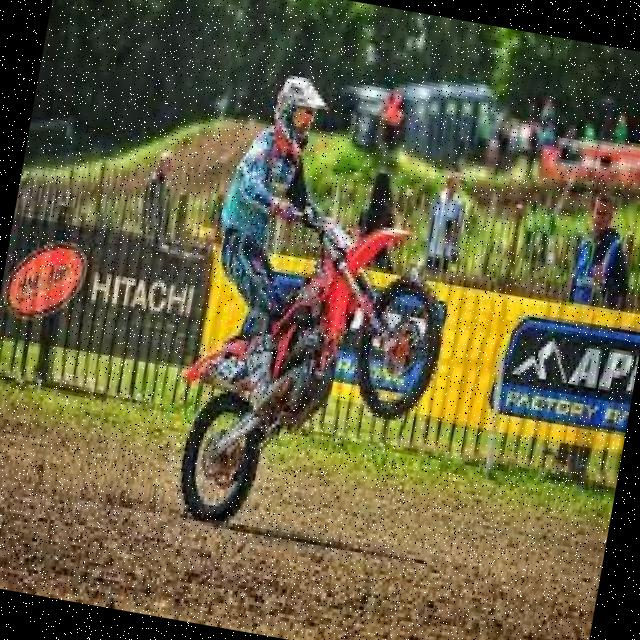Wheeling: (163, 68, 486, 566)
